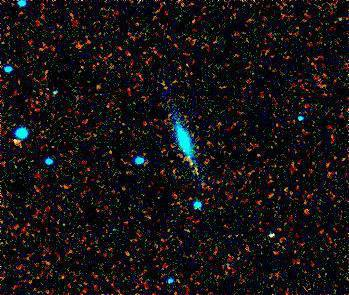star: (175, 148, 205, 178)
